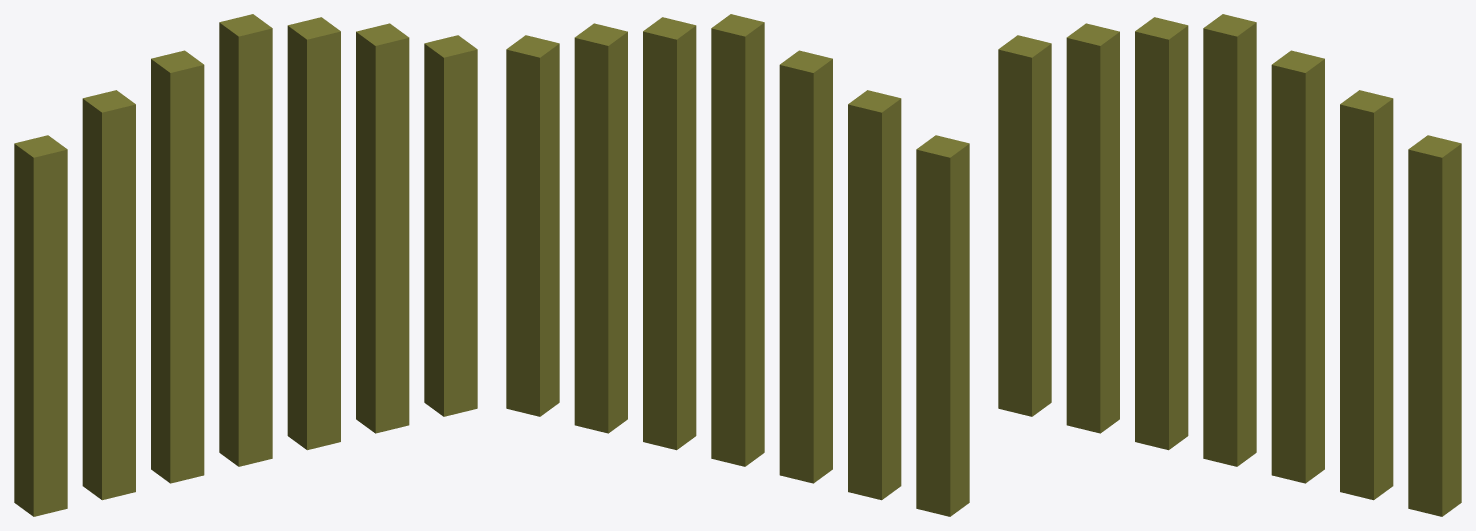
The model's file is Fence.fbx.
3 views of the same model, side by side, from view 1: azimuth 30°, elevation 25°; view 2: azimuth 150°, elevation 25°; view 3: azimuth 330°, elevation 25° (orthographic).
Parts seen in each view (by area): view 1: Cube.233, Cube.232, Cube.234, Cube.231, Cube.235, Cube.236, Cube.230; view 2: Cube.233, Cube.232, Cube.234, Cube.231, Cube.235, Cube.236, Cube.230; view 3: Cube.233, Cube.234, Cube.232, Cube.235, Cube.231, Cube.230, Cube.236.
Part boxes in pixels (x1,y1,x2,y2): Cube.233: [219, 14, 272, 466]; Cube.232: [287, 17, 340, 450]; Cube.234: [151, 50, 204, 483]; Cube.231: [356, 23, 409, 433]; Cube.235: [82, 90, 135, 500]; Cube.236: [14, 135, 67, 516]; Cube.230: [424, 35, 477, 416]; Cube.233: [711, 14, 764, 466]; Cube.232: [643, 17, 696, 450]; Cube.234: [779, 50, 832, 483]; Cube.231: [574, 23, 627, 433]; Cube.235: [848, 90, 901, 500]; Cube.236: [916, 135, 969, 516]; Cube.230: [506, 35, 559, 416]; Cube.233: [1203, 14, 1256, 466]; Cube.234: [1135, 17, 1188, 450]; Cube.232: [1271, 50, 1324, 483]; Cube.235: [1066, 23, 1119, 433]; Cube.231: [1340, 90, 1393, 500]; Cube.230: [1408, 135, 1461, 516]; Cube.236: [998, 35, 1051, 416].
Bounding box in the file's own units: 183 × 169 × 13.99.
